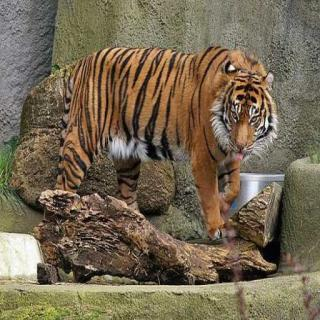Tiger: (60, 41, 320, 213)
